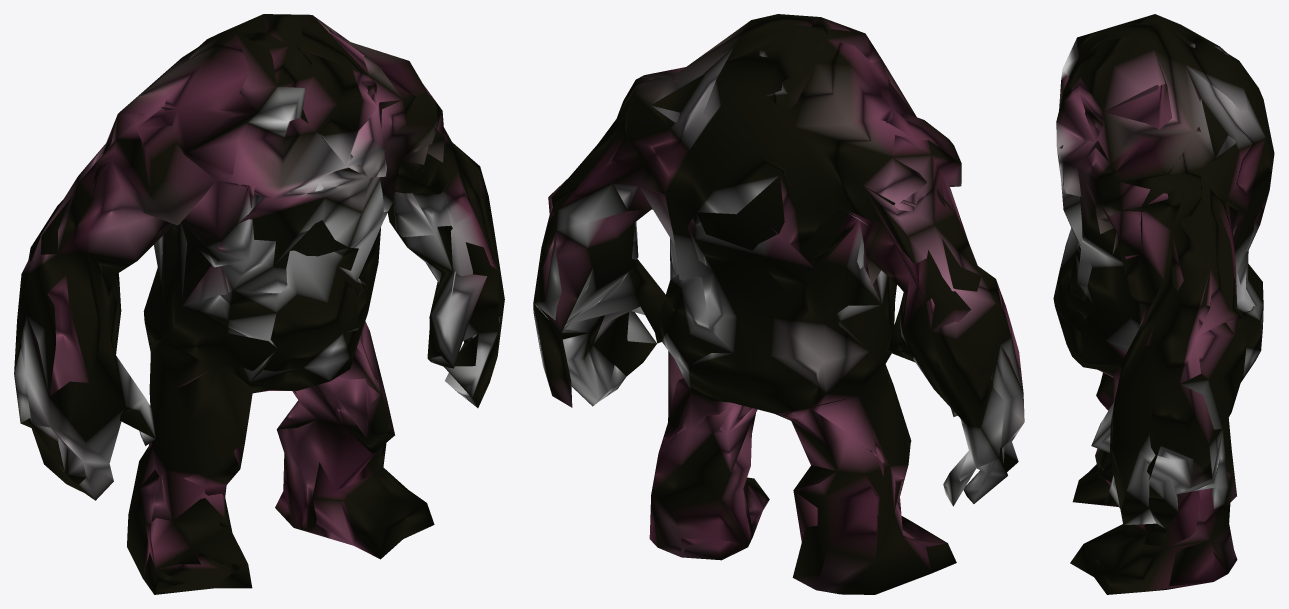
The model's file is gen3d-mud-golem-lod0.glb.
3 renders of one model, left to right at view 1: azimuth 30°, elevation 25°; view 2: azimuth 150°, elevation 25°; view 3: azimuth 270°, elevation 25°, orthographic. The views are drawn at different scales.
Parts seen in each view (by area): view 1: part_0; view 2: part_0; view 3: part_0.
Boxes of the visible parts, x1,y1,x2,y2 form: part_0: (14,14,504,594); part_0: (533,14,1024,594); part_0: (1053,14,1274,594).
Bounding box in the file's own units: 0.9216 × 0.9942 × 0.3889.
